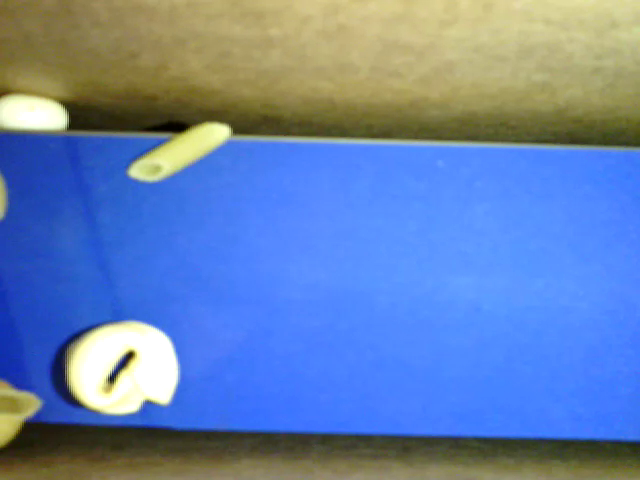penne: (125, 121, 233, 182)
shell: (1, 379, 44, 450)
tortellini: (62, 321, 179, 414)
